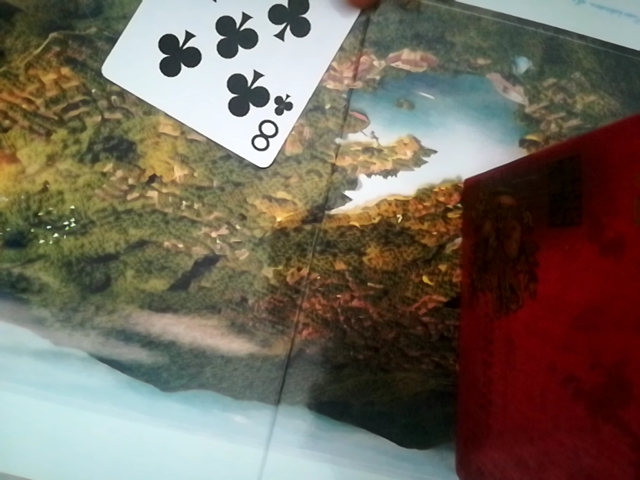mh 8: (103, 2, 375, 168)
